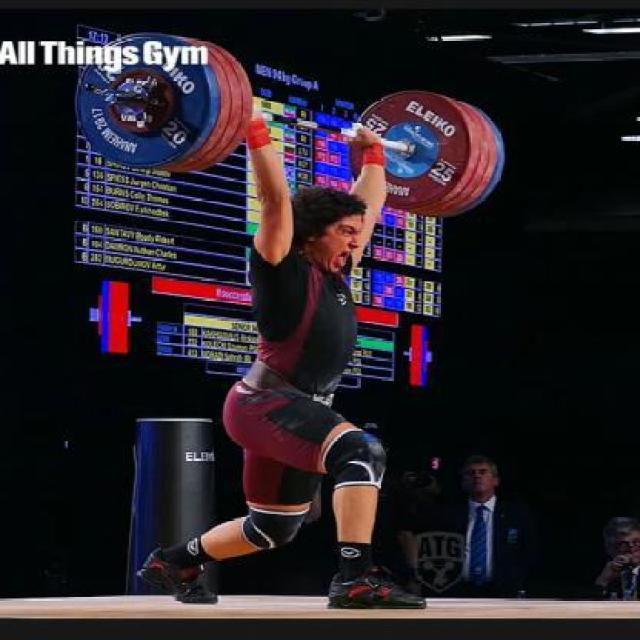barbell: (74, 29, 216, 170)
